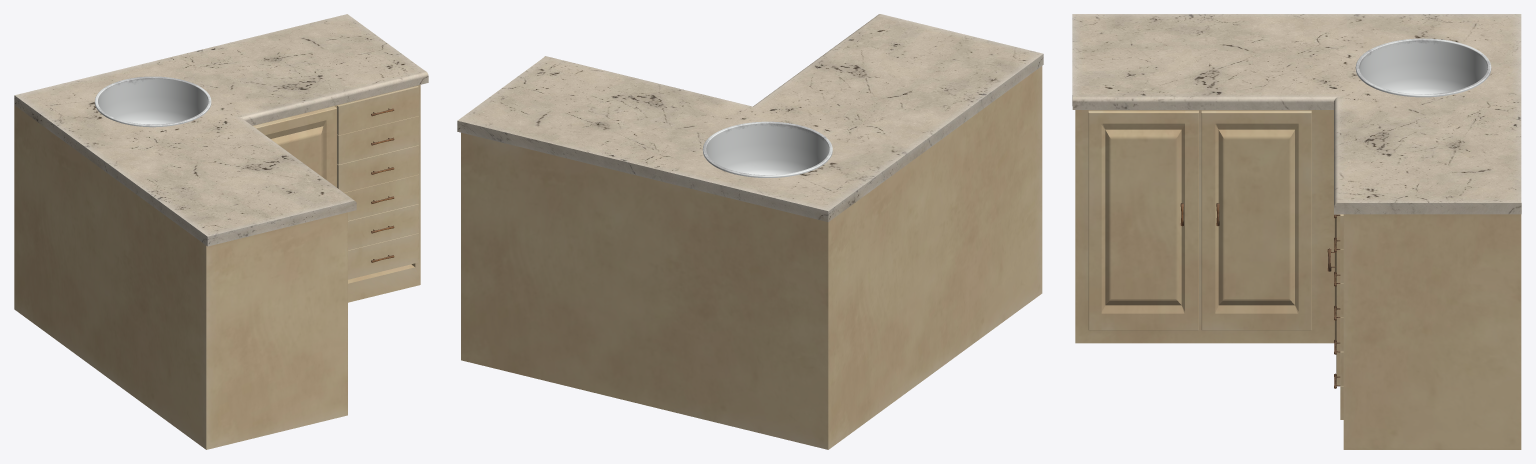
File: ssss.fbx
The picture shows the model from 3 angles, left to right: view 1: azimuth 30°, elevation 25°; view 2: azimuth 150°, elevation 25°; view 3: azimuth 270°, elevation 25°; orthographic projection. The views are drawn at different scales.
Visible parts, largest first — view 1: K1, d_1_mesh.002, object 15, object 10, object 8, object 4, object 2, object 6; view 2: K1; view 3: K1, d_1_mesh.001, d_1_mesh, d_1_mesh.002.
Boxes of the visible parts, x1,y1,x2,y2 form: K1: [14, 14, 428, 449]; d_1_mesh.002: [253, 106, 336, 187]; object 15: [337, 86, 418, 135]; object 10: [337, 116, 418, 164]; object 8: [337, 145, 418, 192]; object 4: [348, 204, 418, 250]; object 2: [348, 233, 418, 279]; object 6: [344, 174, 418, 220]; K1: [457, 14, 1043, 449]; K1: [1072, 14, 1521, 449]; d_1_mesh.001: [1201, 110, 1311, 330]; d_1_mesh: [1088, 110, 1198, 330]; d_1_mesh.002: [1334, 214, 1340, 385].
Bounding box in the file's own units: 1991 × 1231 × 1998.
